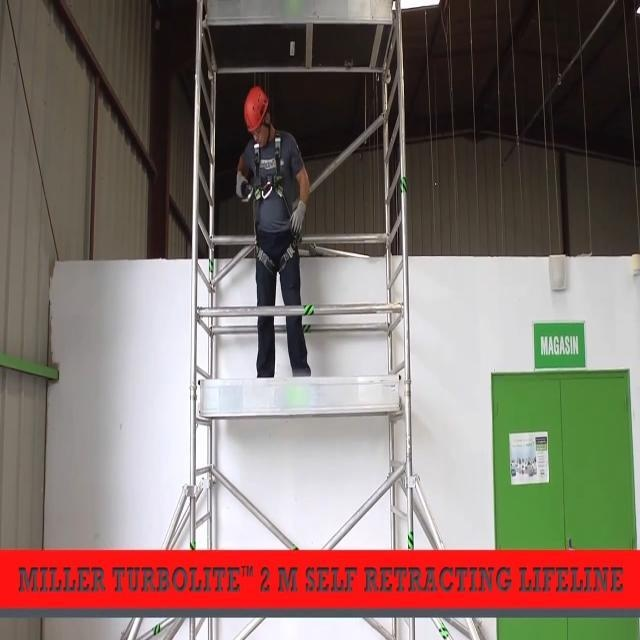Arnes_seguridad: (244, 138, 305, 275)
